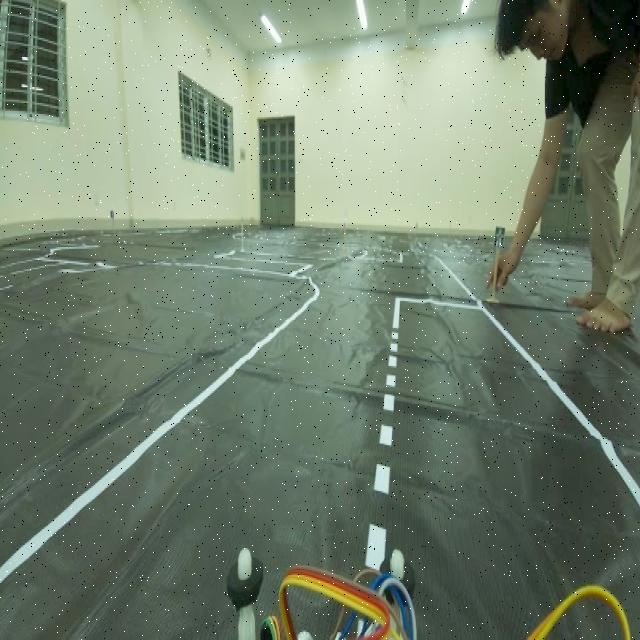highway_exit: (492, 220, 507, 254)
